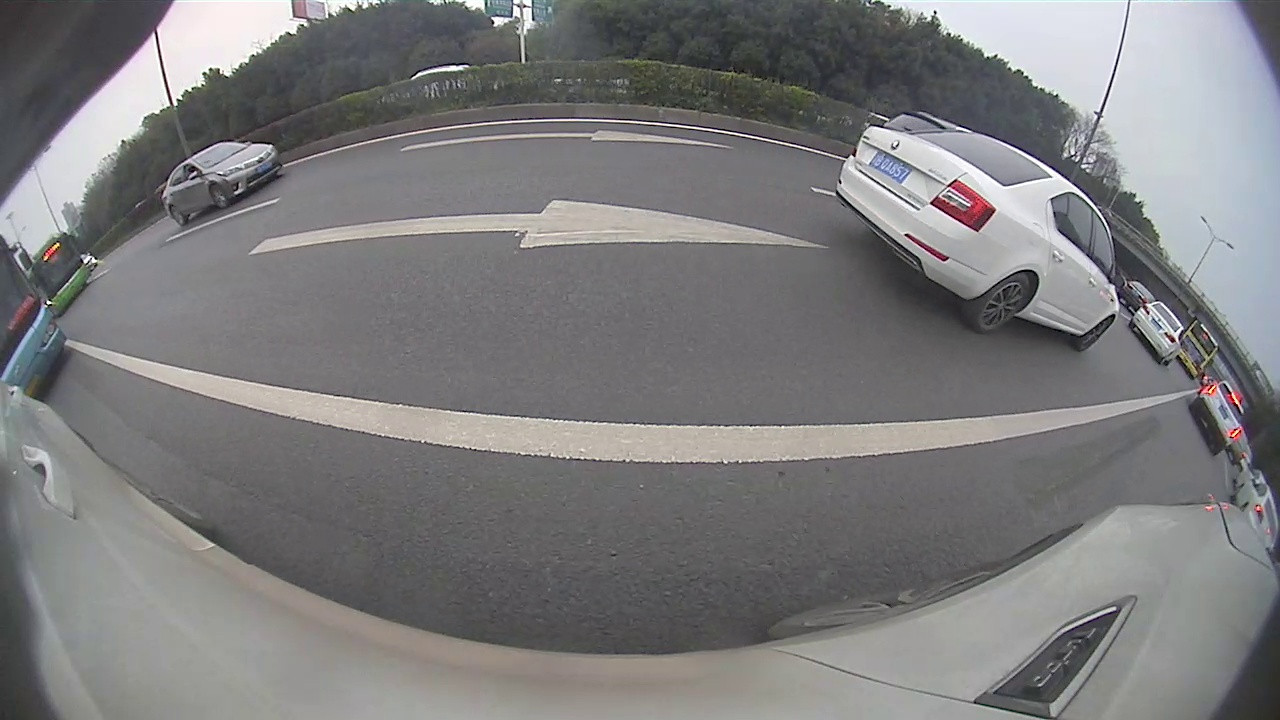bus: (26, 232, 93, 318), (1177, 316, 1220, 378)
car: (834, 124, 1120, 352), (160, 141, 283, 229), (1189, 380, 1251, 457), (1127, 301, 1182, 364)
front: (1077, 317, 1110, 353), (207, 182, 231, 211)
rear: (975, 272, 1032, 335), (171, 208, 188, 227)
